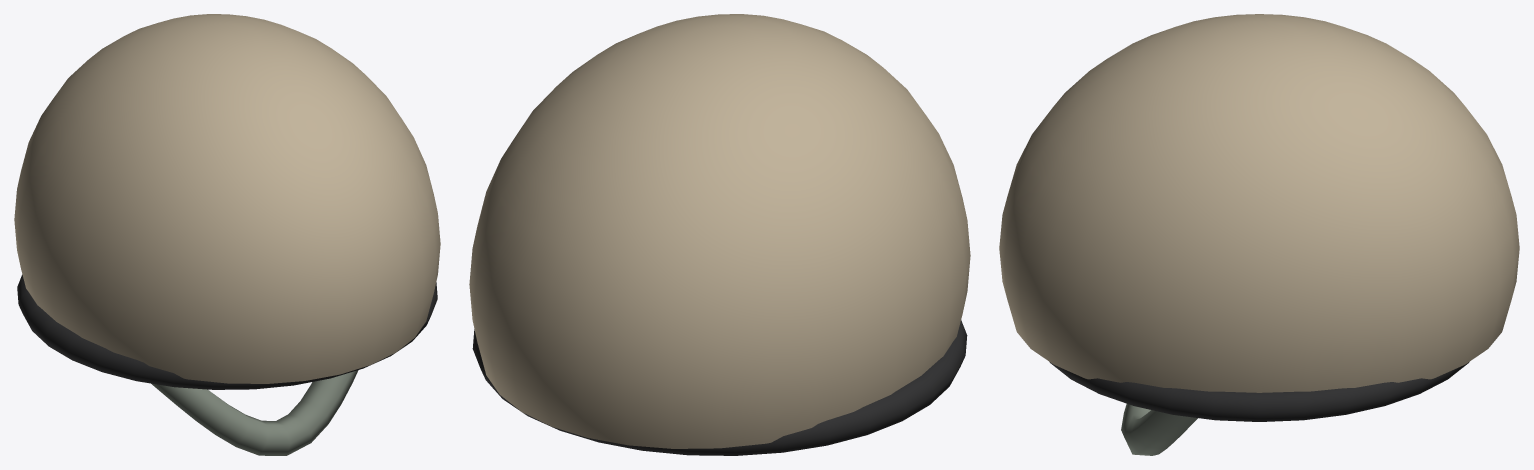
Rendered from acc_ballistic.glb.
The picture shows the model from 3 angles, left to right: view 1: azimuth 30°, elevation 25°; view 2: azimuth 150°, elevation 25°; view 3: azimuth 270°, elevation 25°; orthographic projection. The views are drawn at different scales.
Parts seen in each view (by area): view 1: ballistic-helmet; view 2: ballistic-helmet; view 3: ballistic-helmet.
Part boxes in pixels (<box>): ballistic-helmet: <box>14,14,440,455</box>; ballistic-helmet: <box>469,14,970,455</box>; ballistic-helmet: <box>999,14,1519,455</box>.
Size of the model in its own units: 0.274 by 0.271 by 0.308.
